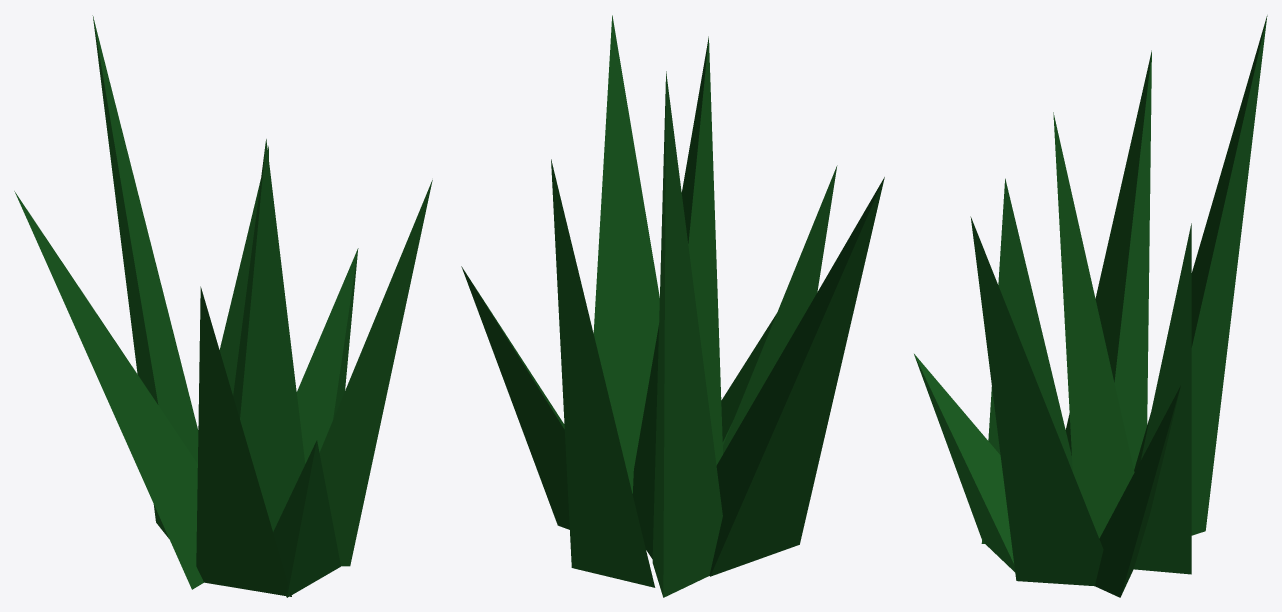
File: grass2.fbx
The picture shows the model from 3 angles, left to right: view 1: azimuth 30°, elevation 25°; view 2: azimuth 150°, elevation 25°; view 3: azimuth 270°, elevation 25°; orthographic projection. The views are drawn at different scales.
Parts seen in each view (by area): view 1: Cone.005, Cone, Cone.001, Cone.002, Cone.003, Cone.007, Cone.004, Cone.006; view 2: Cone.001, Cone.003, Cone.006, Cone.002, Cone, Cone.004, Cone.005, Cone.007; view 3: Cone.002, Cone.003, Cone, Cone.001, Cone.006, Cone.007, Cone.005, Cone.004.
Boxes of the visible parts, x1=… form: Cone.005: x1=196, y1=286, x2=291, y2=596; Cone: x1=233, y1=139, x2=305, y2=531; Cone.001: x1=14, y1=191, x2=203, y2=589; Cone.002: x1=319, y1=180, x2=432, y2=566; Cone.003: x1=92, y1=15, x2=198, y2=538; Cone.007: x1=273, y1=440, x2=340, y2=597; Cone.004: x1=296, y1=248, x2=358, y2=463; Cone.006: x1=219, y1=146, x2=268, y2=395; Cone.001: x1=709, y1=177, x2=884, y2=576; Cone.003: x1=652, y1=71, x2=722, y2=597; Cone.006: x1=551, y1=159, x2=655, y2=587; Cone.002: x1=593, y1=15, x2=659, y2=493; Cone: x1=632, y1=36, x2=722, y2=558; Cone.004: x1=461, y1=266, x2=569, y2=529; Cone.005: x1=723, y1=165, x2=837, y2=453; Cone.007: x1=721, y1=313, x2=776, y2=445; Cone.002: x1=970, y1=216, x2=1103, y2=586; Cone.003: x1=1134, y1=15, x2=1267, y2=535; Cone: x1=1053, y1=112, x2=1134, y2=538; Cone.001: x1=1065, y1=50, x2=1151, y2=469; Cone.006: x1=1134, y1=223, x2=1191, y2=574; Cone.007: x1=914, y1=354, x2=1015, y2=572; Cone.005: x1=981, y1=178, x2=1072, y2=543; Cone.004: x1=1095, y1=385, x2=1180, y2=597.
Bounding box in the file's own units: 189 × 249 × 160.
